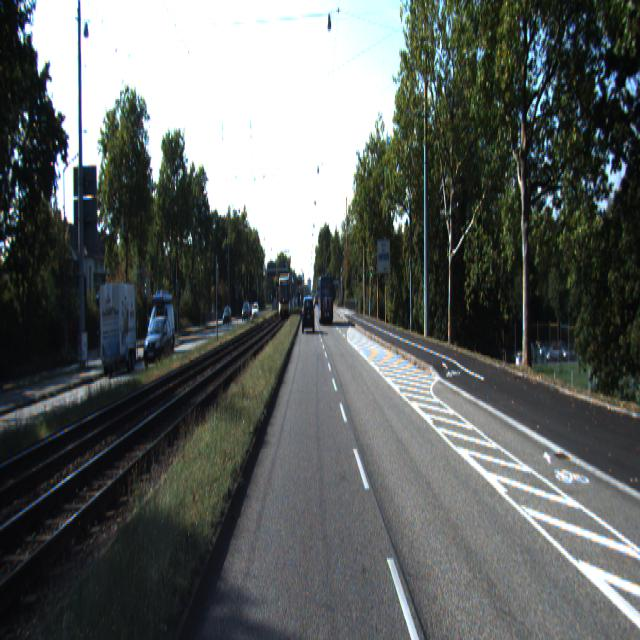Car: (99, 276, 138, 376), (141, 316, 175, 373), (146, 301, 176, 361), (318, 274, 334, 323), (303, 297, 314, 333)
